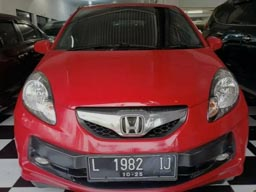plat: (87, 157, 175, 170)
